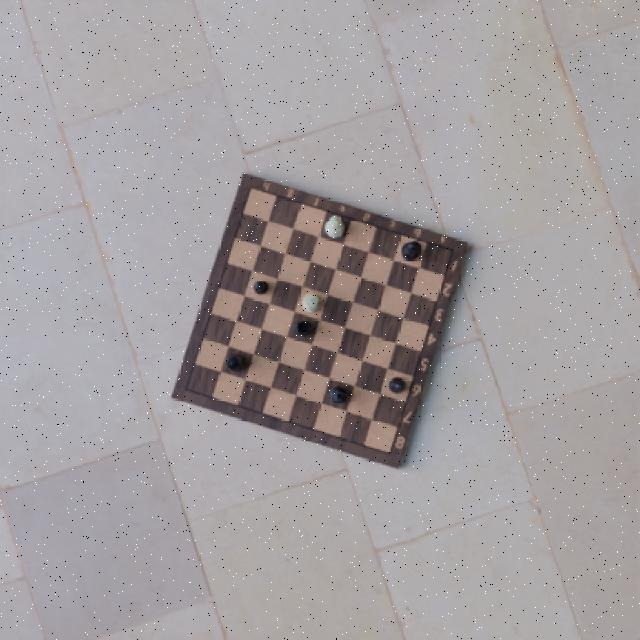black-bishop: (389, 376, 406, 396)
black-king: (402, 239, 422, 261)
black-knight: (328, 385, 350, 407)
black-pawn: (252, 279, 271, 297)
black-queen: (225, 350, 250, 373)
white-king: (323, 214, 347, 238)
white-queen: (300, 292, 323, 315)
